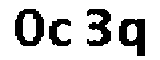0: (12, 7, 47, 47)
3: (82, 5, 112, 51)
c: (49, 15, 72, 48)
q: (116, 16, 148, 60)
